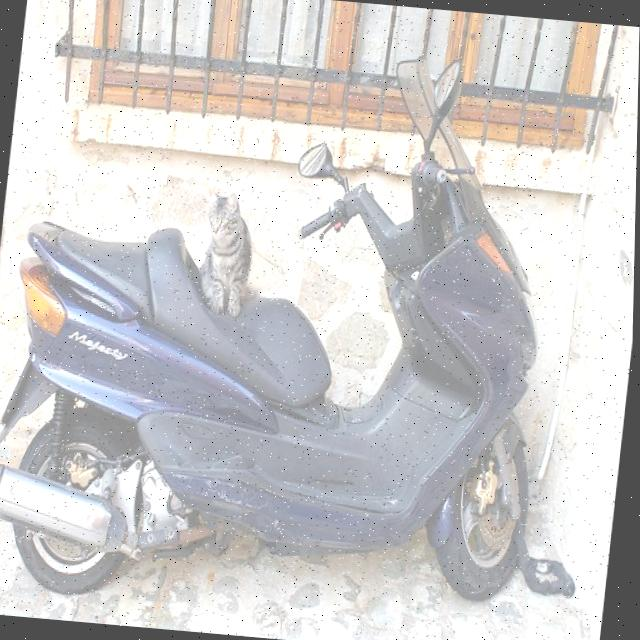motorcycle: (0, 23, 589, 635)
